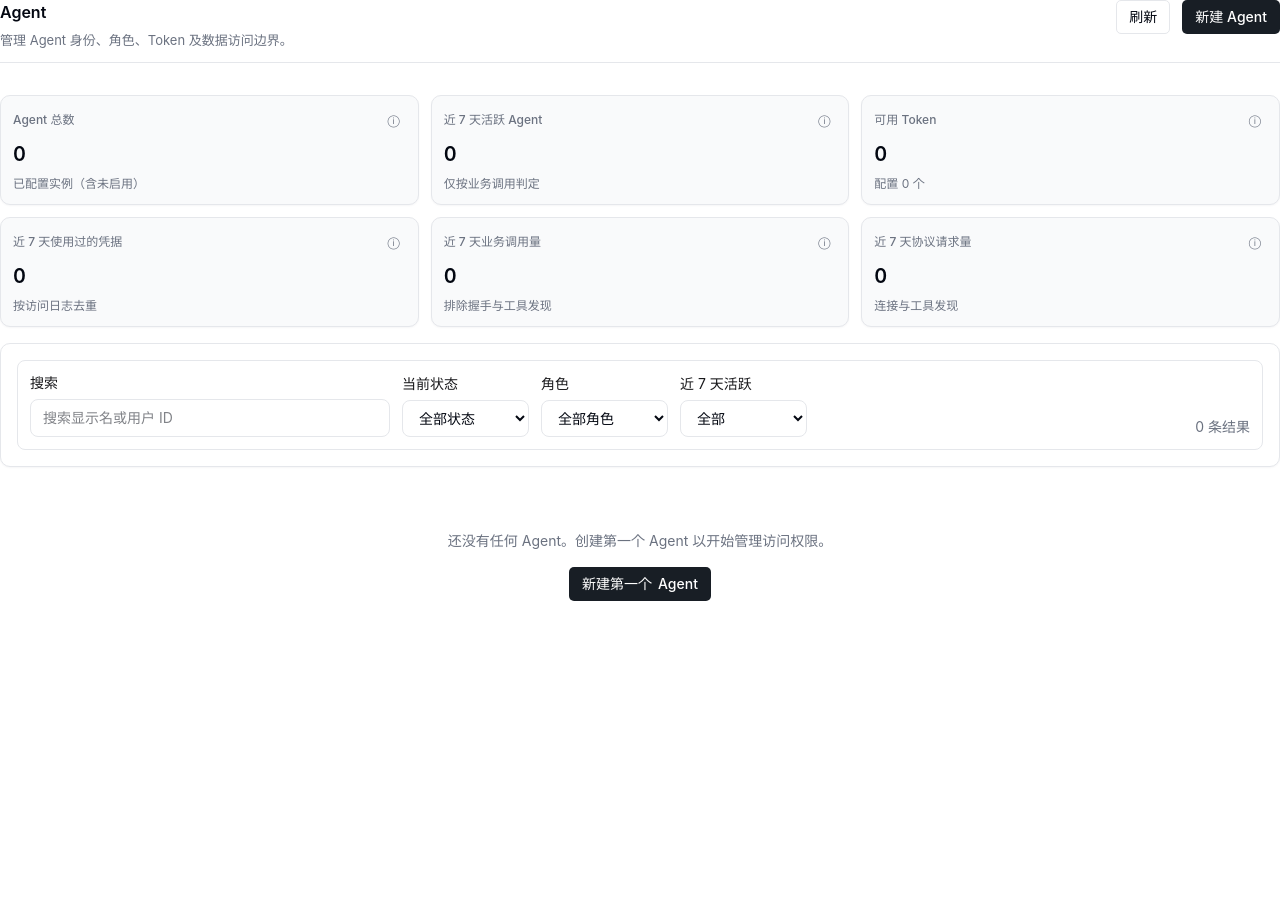
AgentList › new agent modal filters out template roles and marks invalid roles as disabled
Click the button "新建 Agent": (1231, 17) [1182, 0, 1279, 34]
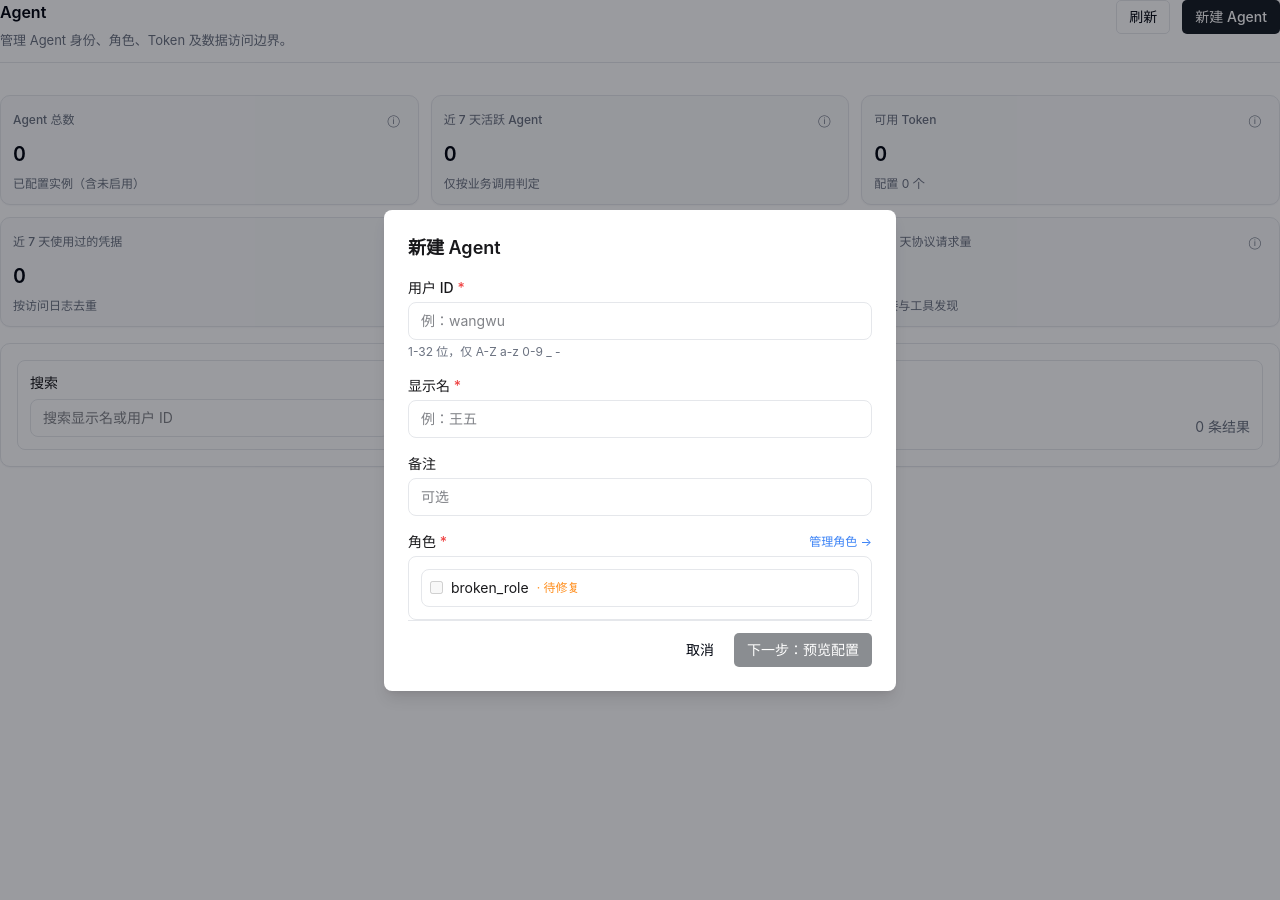
Result: the element with test id "agent-role-field" shows "broken_role" at [451, 578, 529, 596]
Result: the element with test id "agent-role-field" shows "待修复" at [537, 580, 580, 594]
Result: the checkbox labelled "broken_role · 待修复" is disabled at [430, 581, 443, 594]
